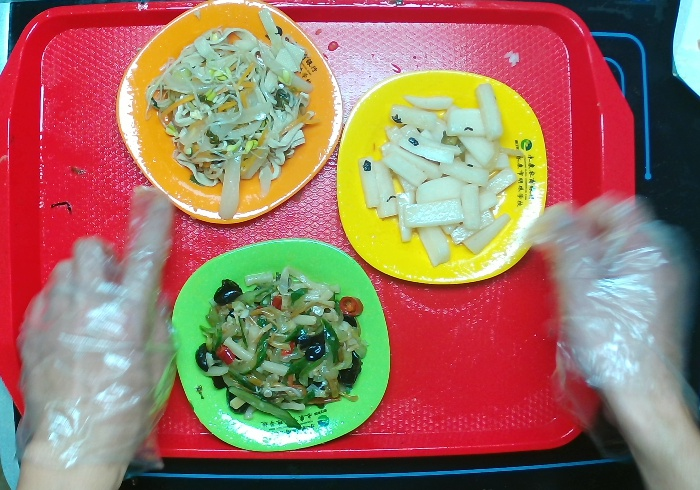YKMZ-Huang_Se_Fang_Die: (333, 71, 552, 288)
YKMZ-Ju_Se_Fang_Die: (109, 1, 344, 229)
YKMZ-Lv_Se_Fang_Die: (167, 235, 392, 454)
